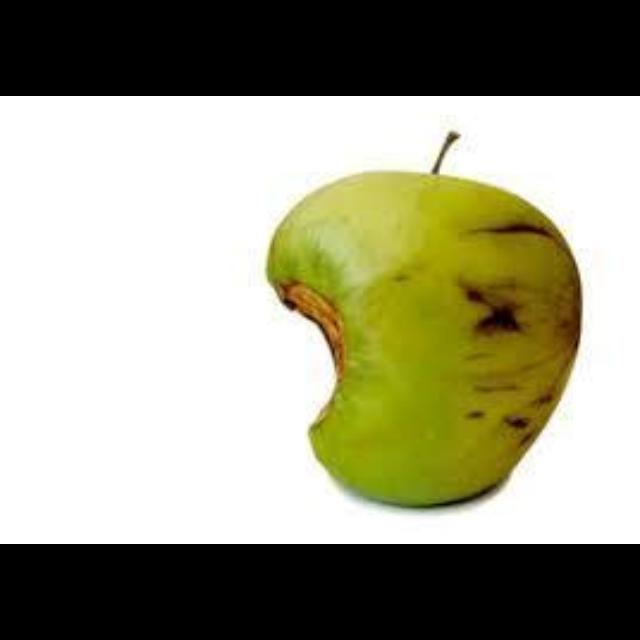apple: (267, 132, 580, 507)
scratch: (459, 284, 530, 340), (464, 221, 552, 243)
